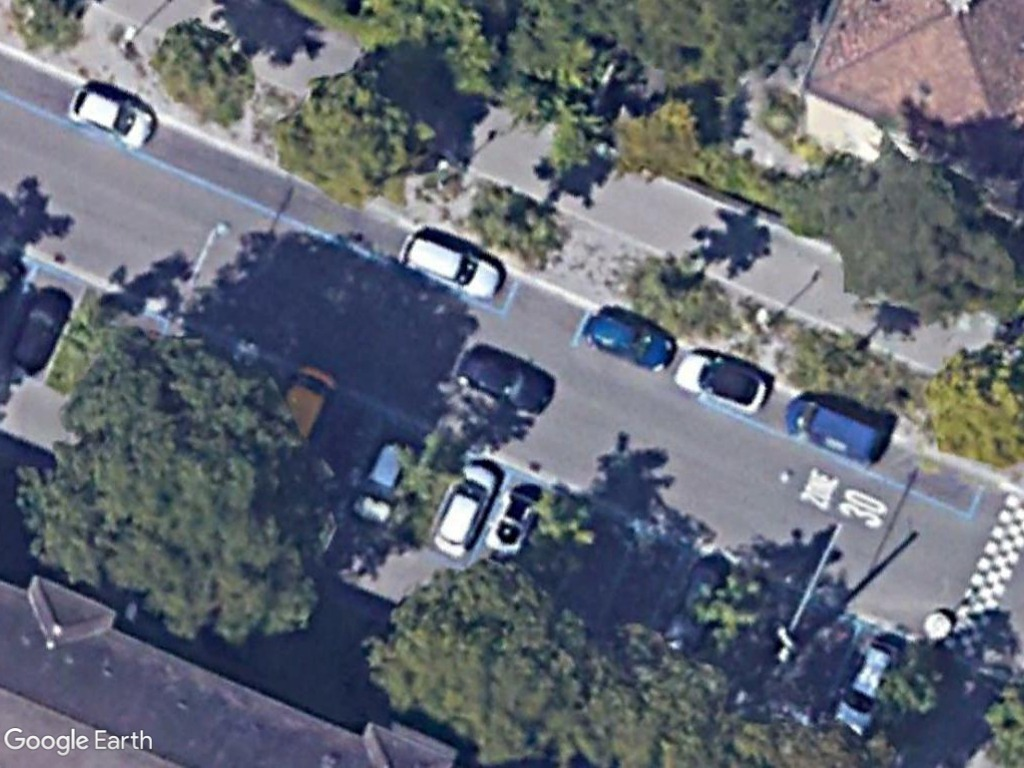car: (778, 390, 889, 469), (394, 229, 506, 304), (669, 346, 768, 419), (429, 462, 500, 561), (66, 83, 158, 152), (581, 312, 680, 373)
